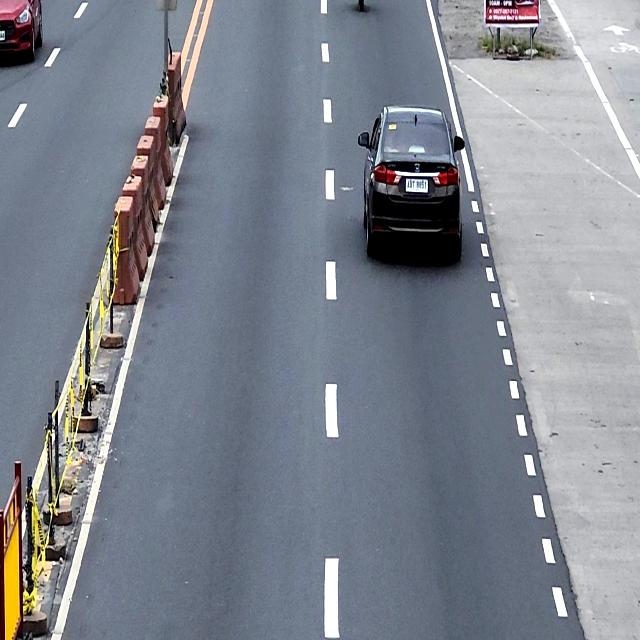Car: (357, 104, 465, 261), (0, 0, 43, 60)
License-Plate: (404, 176, 429, 194), (0, 30, 6, 42)
